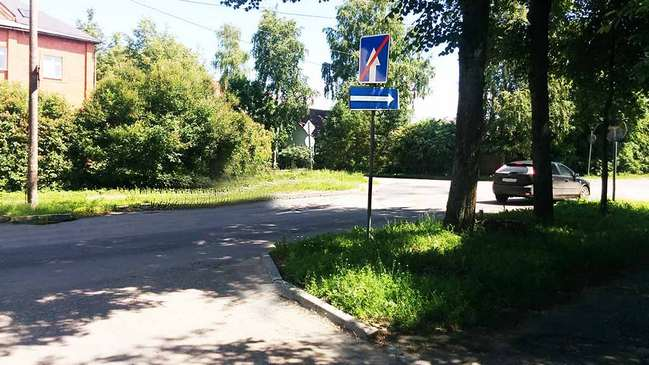One-Way Traffic: (349, 87, 398, 109)
